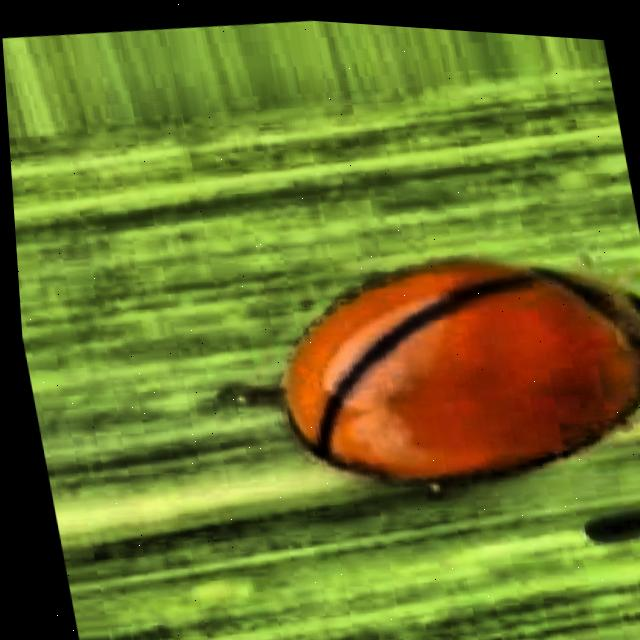Ladybug: (173, 190, 640, 537)
